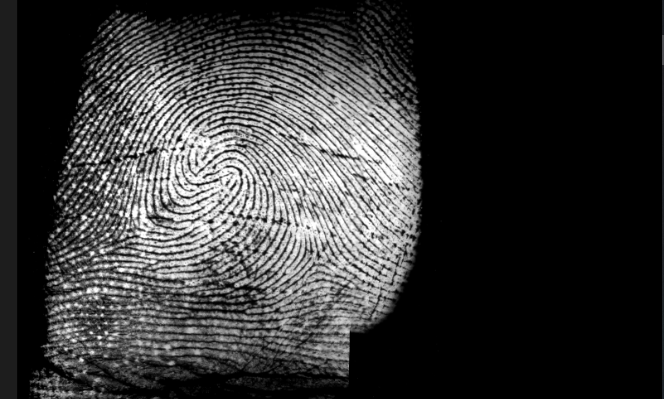nucelo: (188, 152, 237, 180)
verticilo: (299, 244, 333, 276), (111, 215, 142, 243)
